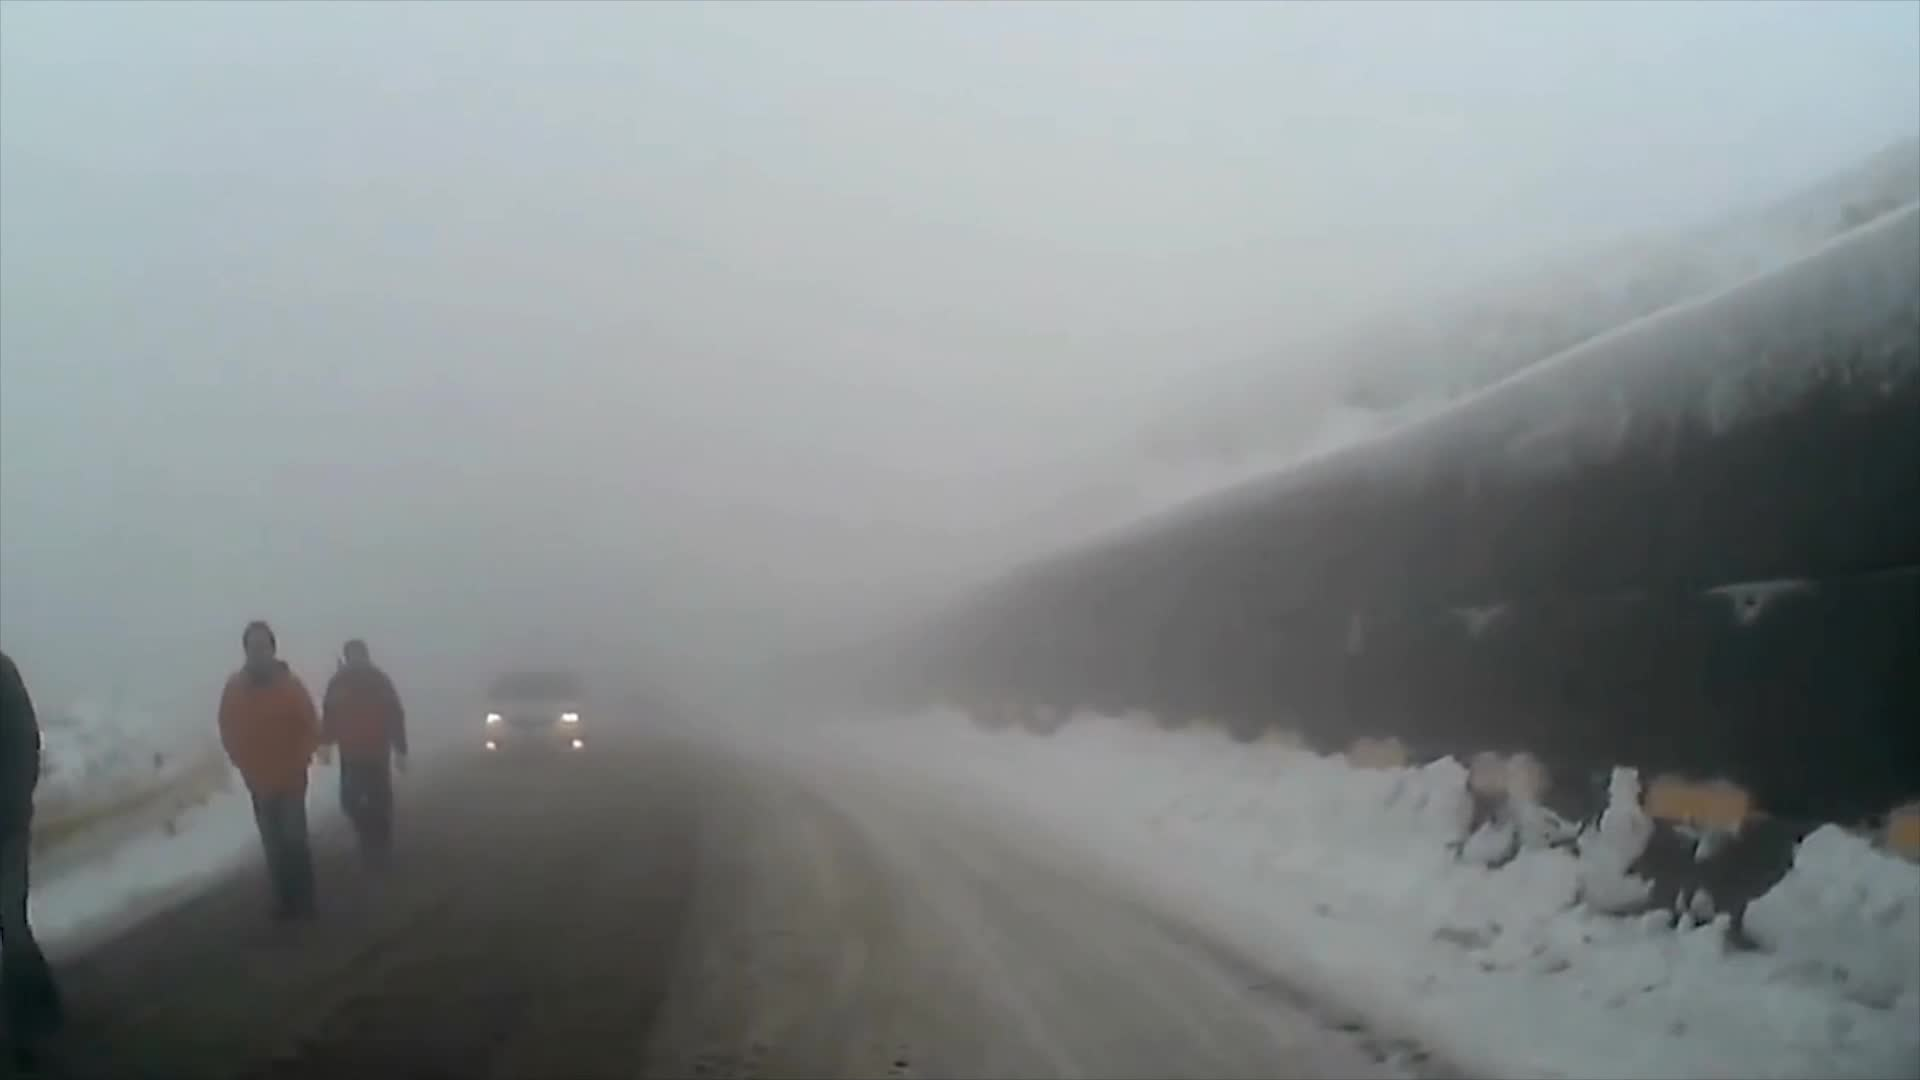pedestrian: (221, 619, 327, 922), (324, 640, 406, 869)
vehicle: (479, 666, 590, 765)
